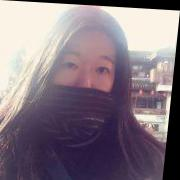WRONG: (52, 49, 122, 117)
